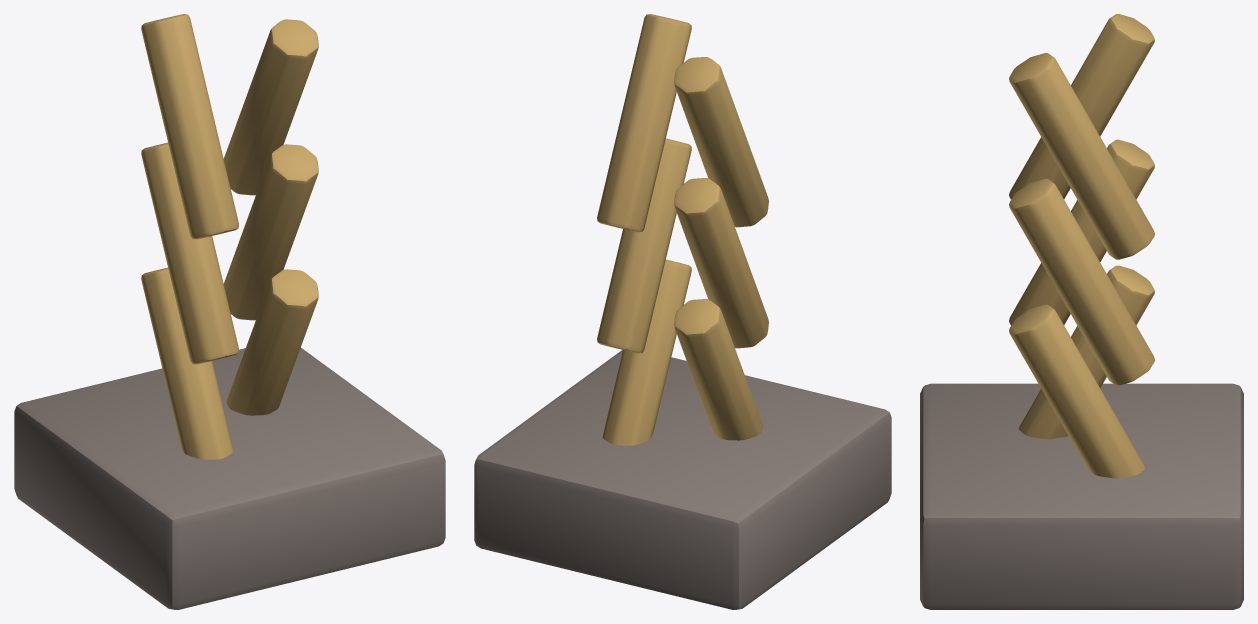
Rendered from prop_braided_link_chain_v1.glb.
3 views of the same model, side by side, from view 1: azimuth 30°, elevation 25°; view 2: azimuth 150°, elevation 25°; view 3: azimuth 270°, elevation 25° (orthographic). The views are drawn at different scales.
Parts seen in each view (by area): view 1: ChainPedestal.001, BraidedLink_2_-1, BraidedLink_1_-1, BraidedLink_1_1, BraidedLink_2_1, BraidedLink_0_-1, BraidedLink_0_1; view 2: ChainPedestal.001, BraidedLink_2_1, BraidedLink_1_1, BraidedLink_1_-1, BraidedLink_2_-1, BraidedLink_0_1, BraidedLink_0_-1; view 3: ChainPedestal.001, BraidedLink_1_1, BraidedLink_2_1, BraidedLink_0_1, BraidedLink_2_-1, BraidedLink_1_-1, BraidedLink_0_-1.
Part boxes in pixels (left/top/right/bottom): ChainPedestal.001: left=14, top=347, right=445, bottom=609; BraidedLink_2_-1: left=141, top=14, right=238, bottom=239; BraidedLink_1_-1: left=141, top=142, right=238, bottom=364; BraidedLink_1_1: left=223, top=144, right=318, bottom=320; BraidedLink_2_1: left=223, top=19, right=318, bottom=195; BraidedLink_0_-1: left=141, top=267, right=233, bottom=459; BraidedLink_0_1: left=226, top=269, right=318, bottom=415; ChainPedestal.001: left=474, top=350, right=891, bottom=609; BraidedLink_2_1: left=597, top=14, right=691, bottom=232; BraidedLink_1_1: left=597, top=138, right=691, bottom=353; BraidedLink_1_-1: left=674, top=178, right=768, bottom=348; BraidedLink_2_-1: left=674, top=57, right=768, bottom=227; BraidedLink_0_1: left=602, top=259, right=691, bottom=445; BraidedLink_0_-1: left=674, top=299, right=763, bottom=440; ChainPedestal.001: left=920, top=383, right=1243, bottom=609; BraidedLink_1_1: left=1009, top=179, right=1154, bottom=385; BraidedLink_2_1: left=1009, top=53, right=1154, bottom=259; BraidedLink_0_1: left=1009, top=304, right=1145, bottom=478; BraidedLink_2_-1: left=1009, top=14, right=1154, bottom=199; BraidedLink_1_-1: left=1009, top=139, right=1154, bottom=325; BraidedLink_0_-1: left=1018, top=265, right=1154, bottom=439.
Size of the model in its own units: 0.84 by 1.45 by 0.84.
